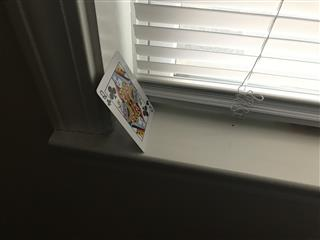QueenOfClubs: (94, 51, 155, 153)
